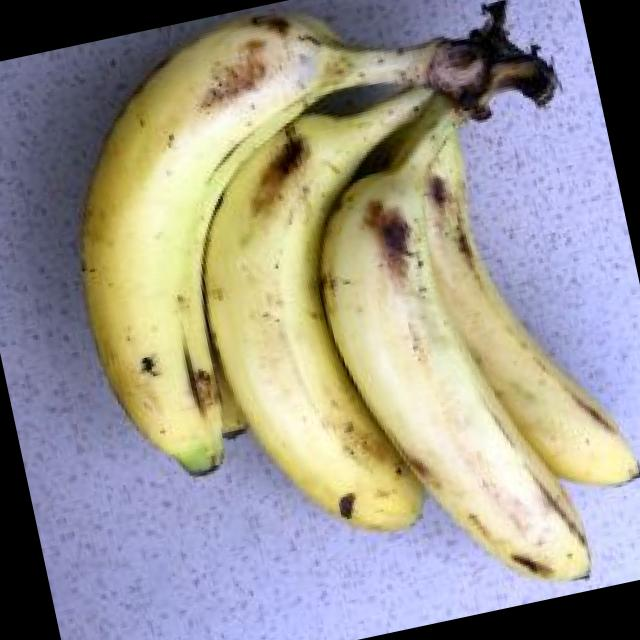banana: (146, 40, 583, 545)
